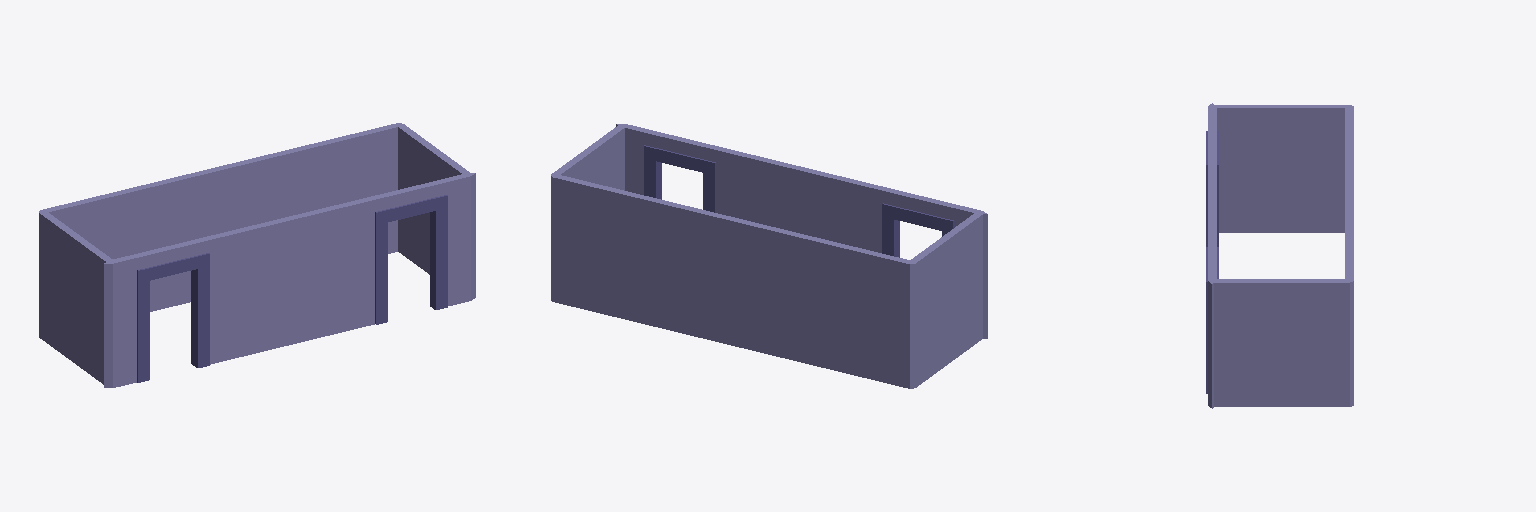
File: Section1_2.obj
The picture shows the model from 3 angles: view 1: azimuth 30°, elevation 25°; view 2: azimuth 150°, elevation 25°; view 3: azimuth 270°, elevation 25°; orthographic projection.
Visible parts, largest first — view 1: mergedBlocks; view 2: mergedBlocks; view 3: mergedBlocks.
Boxes of the visible parts, <box> form: mergedBlocks: <box>39,123,475,387</box>; mergedBlocks: <box>551,124,987,388</box>; mergedBlocks: <box>1206,103,1353,408</box>.
Bounding box in the file's own units: 6.25 × 2 × 2.15.